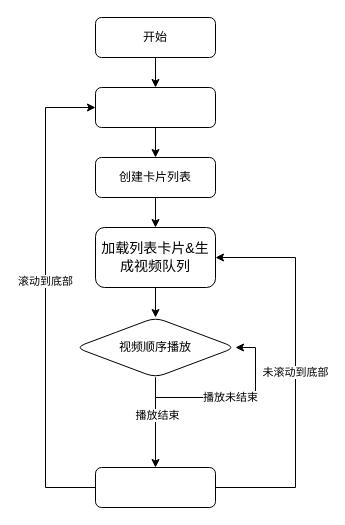
The diagram is 345 pixels wide and 525 high, and some of its shapes have lost their labels. The centre of each missing label's shape, as x and y in pixels:
"列表滑动监听" goes at (155,487).
"获取列表数据内容" goes at (155,107).
